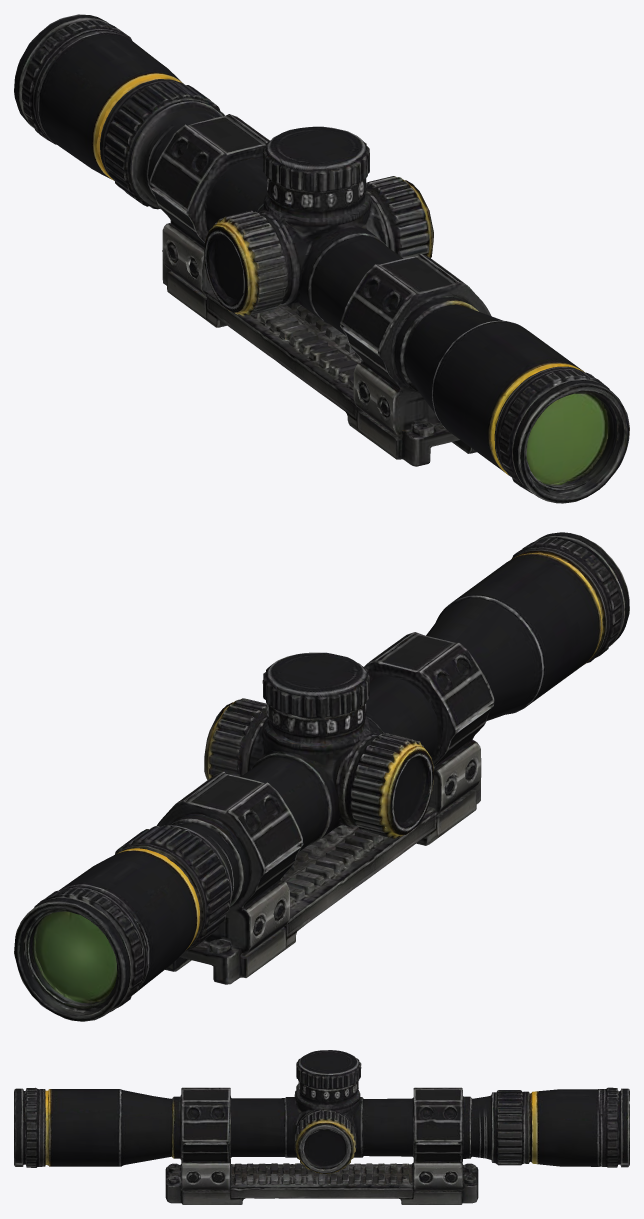
Rendered from scope_rifle.medium.glb.
The picture shows the model from 3 angles, top to bottom: view 1: azimuth 30°, elevation 25°; view 2: azimuth 150°, elevation 25°; view 3: azimuth 270°, elevation 25°; orthographic projection. The views are drawn at different scales.
Visible parts, largest first — view 1: model; view 2: model; view 3: model.
Part boxes in pixels (x1,y1,x2,y2): model: (14,14,629,503); model: (14,532,629,1021); model: (14,1050,629,1204).
Bounding box in the file's own units: 0.0686 × 0.0755 × 0.32.
Materials: 1 (1 with a texture image).
